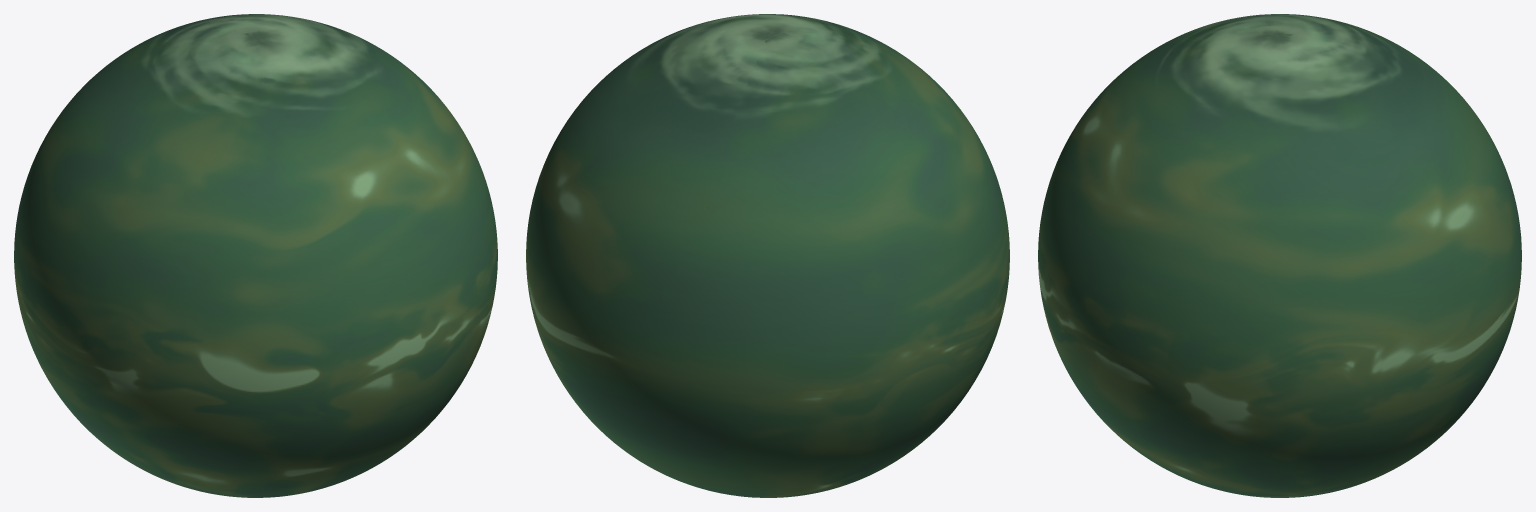
The model's file is GiantsDeep.glb.
3 views of the same model, side by side, from view 1: azimuth 30°, elevation 25°; view 2: azimuth 150°, elevation 25°; view 3: azimuth 270°, elevation 25° (orthographic).
Visible parts, largest first — view 1: GiantsDeep; view 2: GiantsDeep; view 3: GiantsDeep.
Part boxes in pixels (x1,y1,x2,y2): GiantsDeep: (14,14,497,497); GiantsDeep: (526,14,1009,497); GiantsDeep: (1038,14,1521,497).
Bounding box in the file's own units: 2 × 2 × 2.
1 material, 1 textured.
